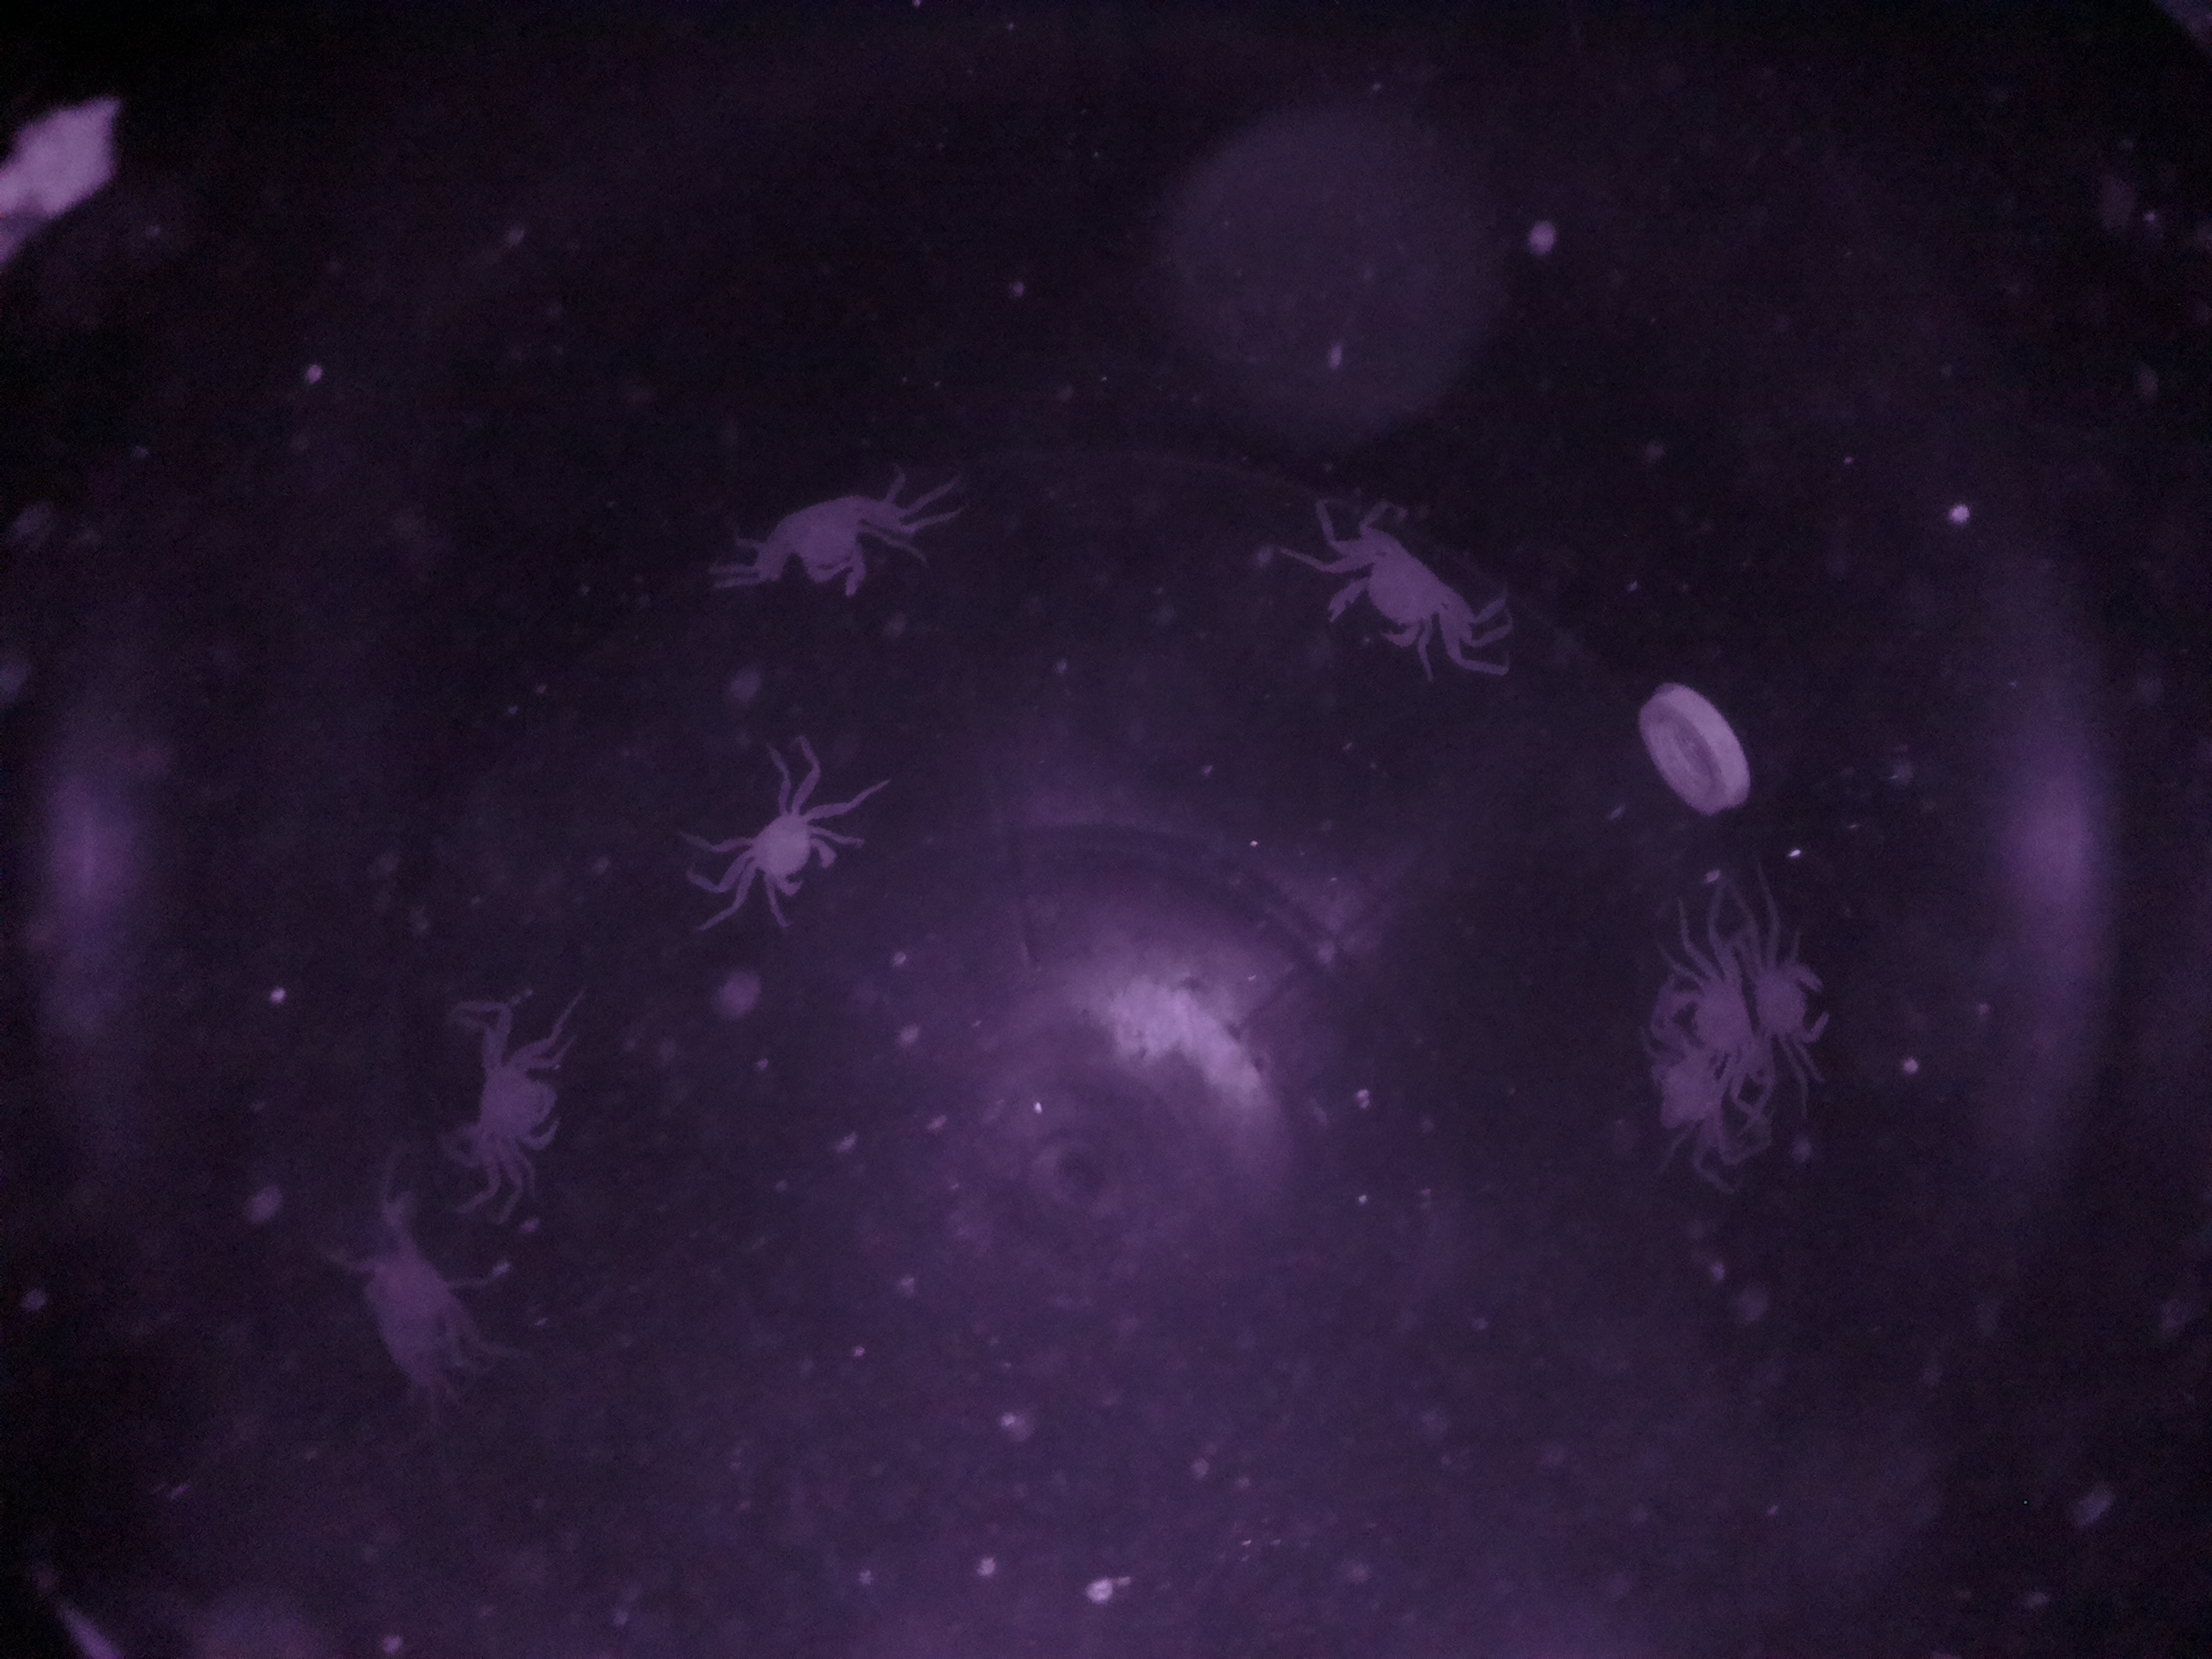Crab: (1280, 500, 1514, 697), (709, 462, 923, 620), (462, 976, 596, 1202), (1733, 871, 1855, 1108), (721, 774, 855, 922)
